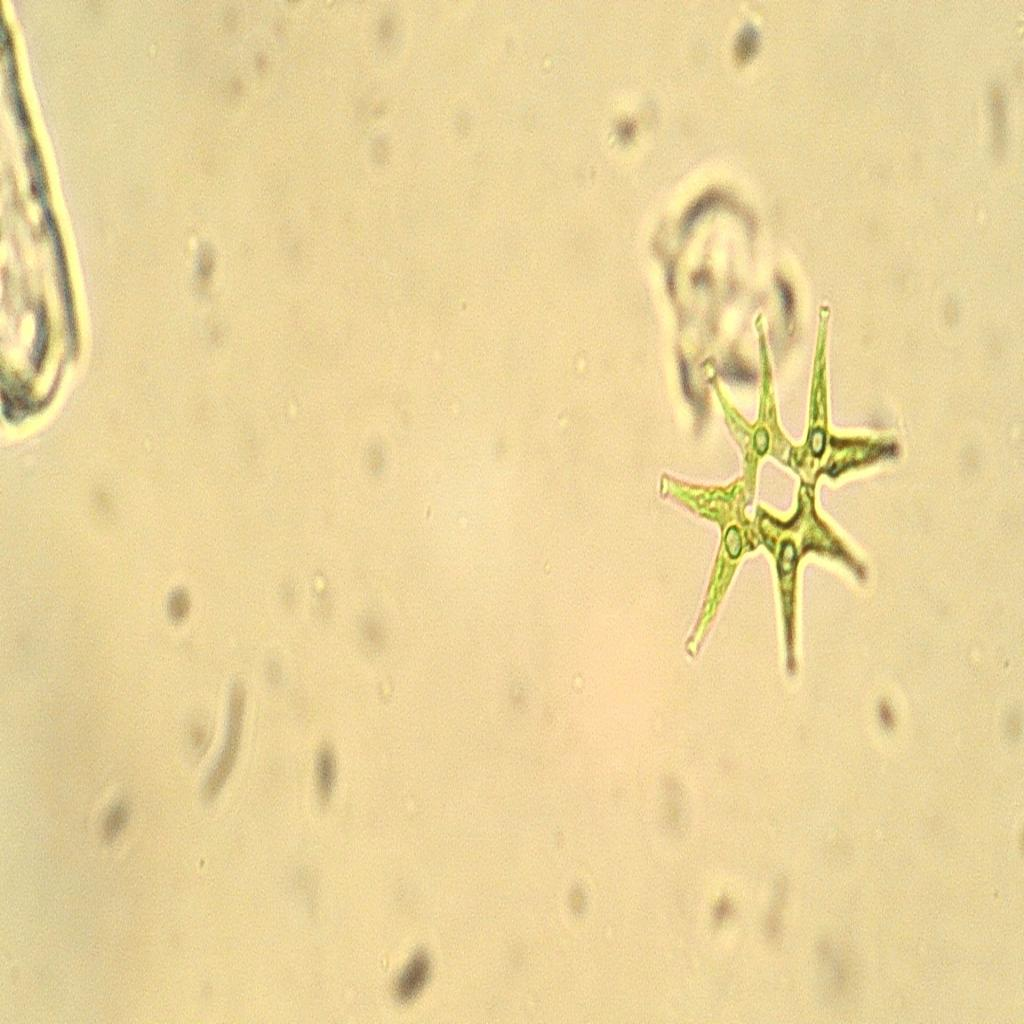Pediastrum_CT: (630, 298, 914, 701)
